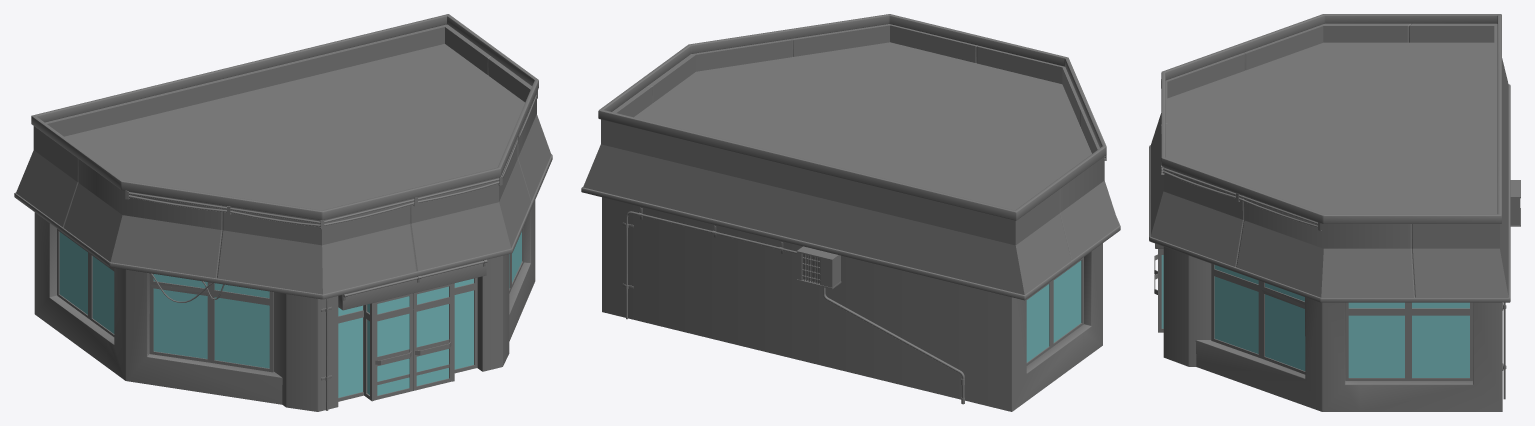
File: SM_convenience_store.fbx
The picture shows the model from 3 angles, left to right: view 1: azimuth 30°, elevation 25°; view 2: azimuth 150°, elevation 25°; view 3: azimuth 270°, elevation 25°; orthographic projection.
Parts seen in each view (by area): view 1: Box646; view 2: Box646; view 3: Box646.
Part boxes in pixels (<box>): Box646: <box>14,14,552,411</box>; Box646: <box>581,14,1120,411</box>; Box646: <box>1149,14,1520,411</box>.
Size of the model in its own units: 478 by 207 by 350.
